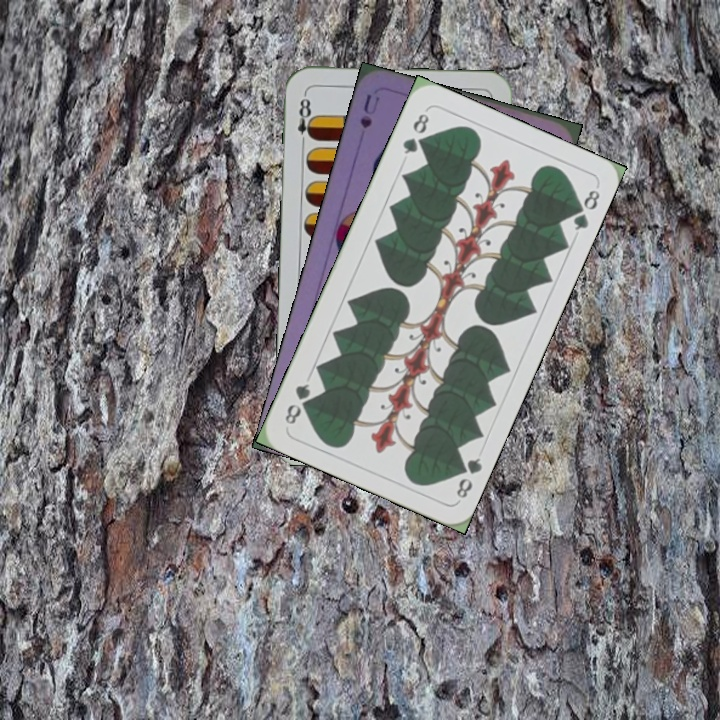E8: (294, 90, 317, 149)
G8: (398, 106, 432, 157), (451, 453, 485, 501)
SU: (356, 90, 382, 131)
